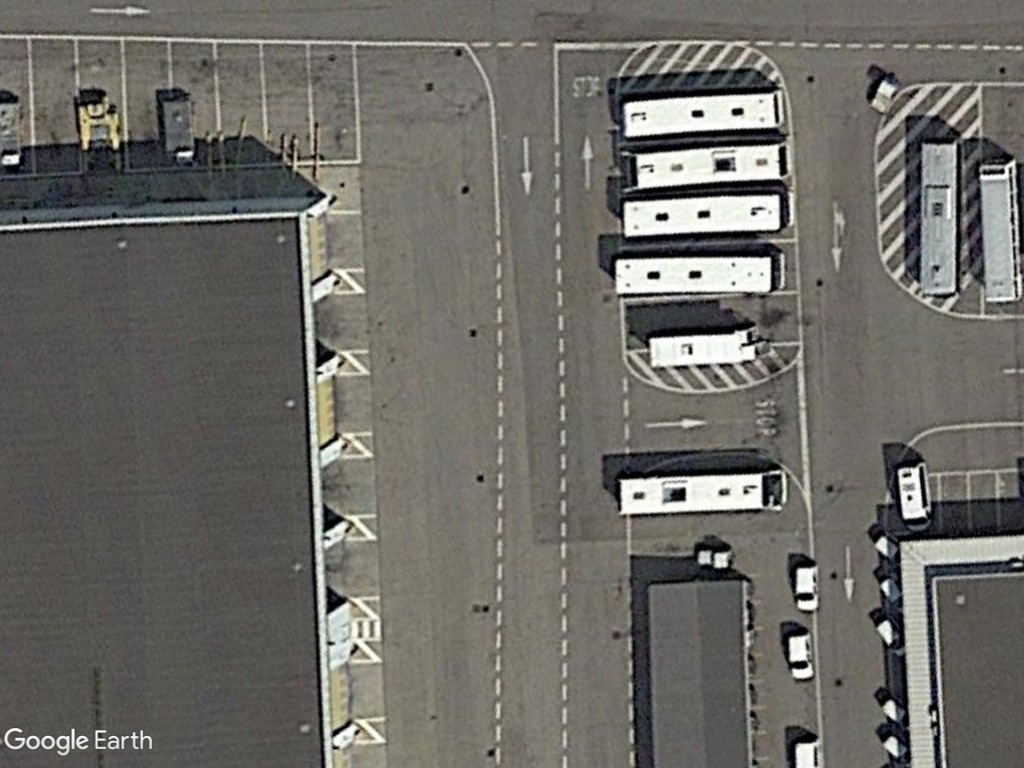bus: (621, 137, 797, 195), (614, 187, 796, 242), (615, 84, 790, 141), (914, 135, 971, 302), (611, 466, 792, 518), (607, 249, 790, 299), (973, 153, 1024, 308)
pushbacktruck: (72, 96, 129, 179)
van: (887, 458, 937, 536), (782, 627, 820, 684), (789, 561, 823, 615)
